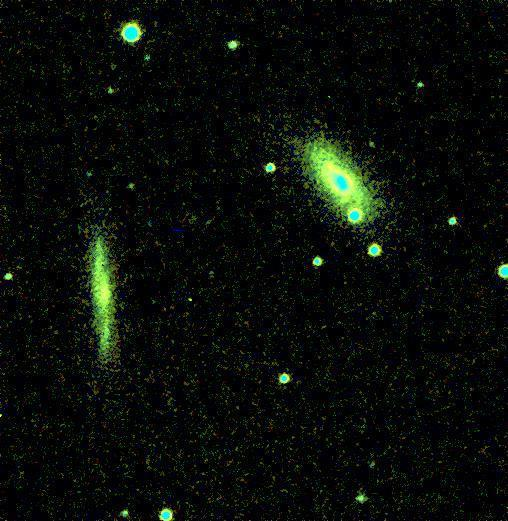star: (176, 285, 206, 315)
